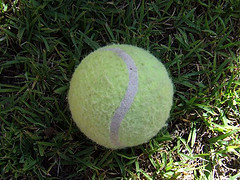tennis ball: (66, 38, 175, 152)
